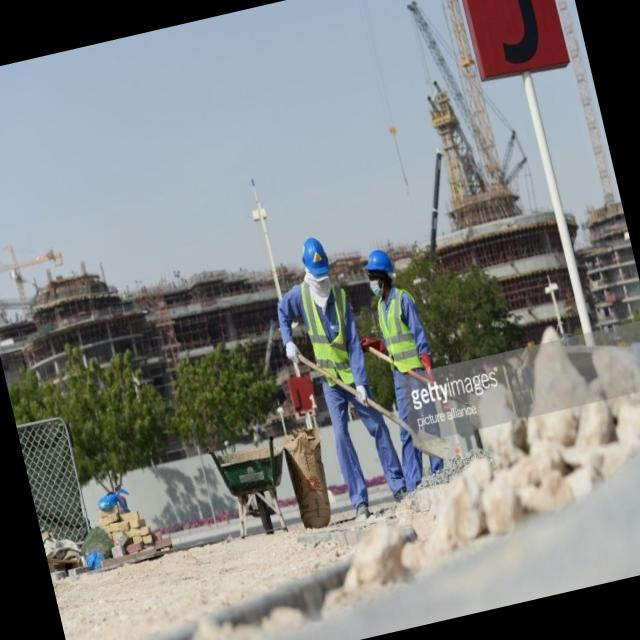helmet: (298, 236, 332, 280), (368, 250, 394, 274)
vest: (294, 277, 360, 394), (372, 285, 422, 375)
